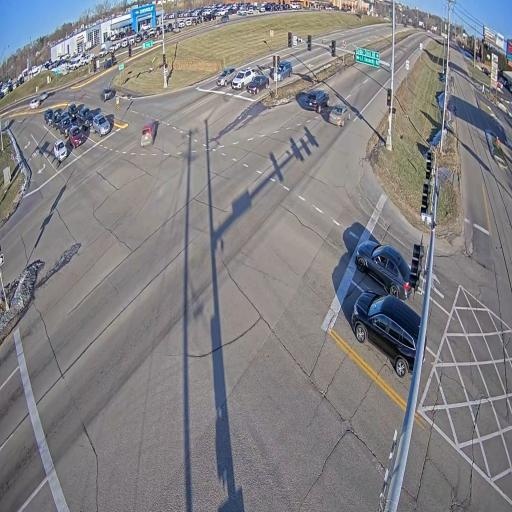pickup: (76, 107, 99, 131), (59, 114, 73, 138)
sedan: (354, 240, 411, 300), (329, 104, 350, 127), (247, 75, 270, 94), (54, 139, 68, 163), (30, 98, 40, 109), (39, 91, 49, 101)
suv: (351, 290, 420, 377), (305, 91, 329, 113), (232, 68, 256, 89), (270, 59, 292, 81), (93, 114, 111, 137), (216, 66, 236, 86), (69, 125, 84, 148), (141, 122, 154, 146), (100, 87, 116, 102), (67, 103, 79, 121), (52, 110, 61, 129), (44, 109, 54, 126)
